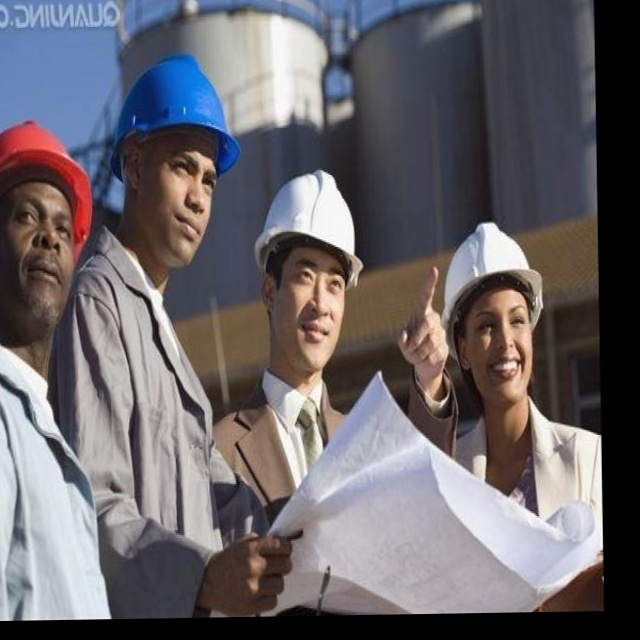Con_Casco: (251, 166, 364, 373), (441, 219, 546, 407)
